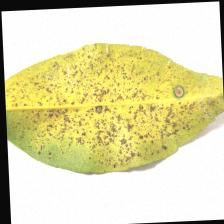canker: (41, 57, 191, 150)
